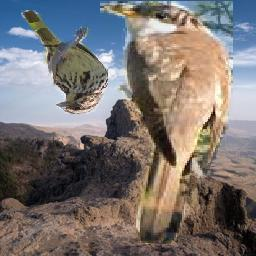Cuckoo: (101, 2, 234, 245)
Sparrow: (22, 10, 109, 114)
